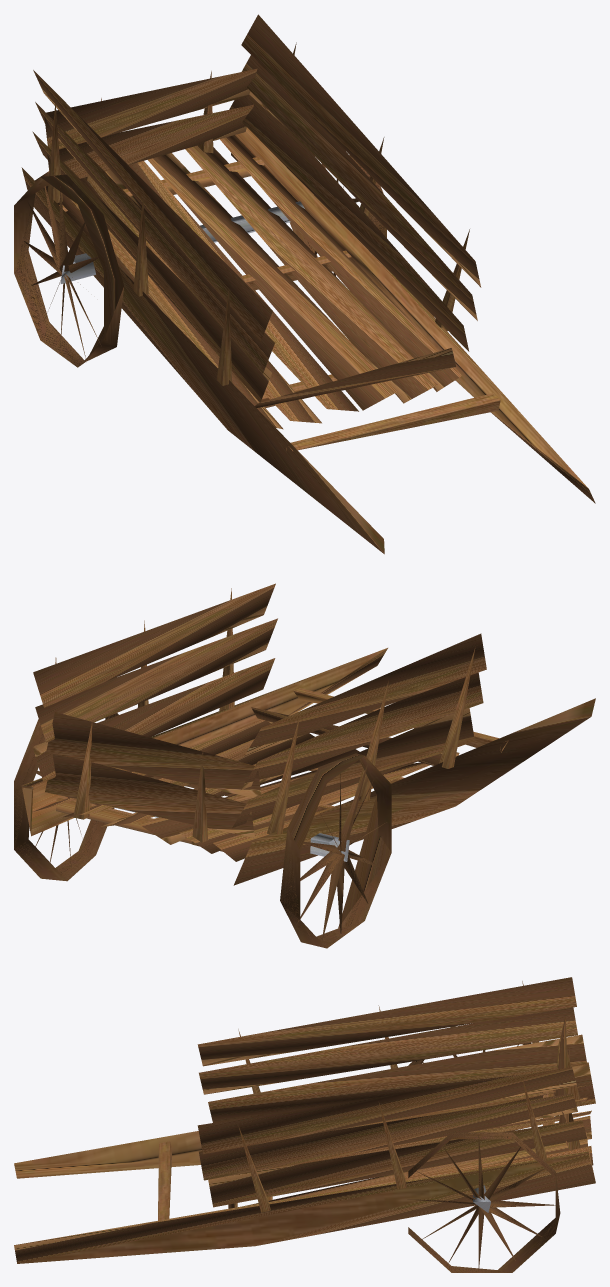
The model's file is Prop_Wagon.medium.gltf.
3 renders of one model, top to bottom at view 1: azimuth 30°, elevation 25°; view 2: azimuth 150°, elevation 25°; view 3: azimuth 270°, elevation 25°, orthographic. The views are drawn at different scales.
Parts seen in each view (by area): view 1: Prop_Wagon; view 2: Prop_Wagon; view 3: Prop_Wagon.
Part boxes in pixels (x1=…): Prop_Wagon: x1=14, y1=14, x2=595, y2=554; Prop_Wagon: x1=14, y1=583, x2=595, y2=948; Prop_Wagon: x1=14, y1=977, x2=595, y2=1272.
Size of the model in its own units: 1.85 by 1.51 by 4.02.
1 material, 1 textured.
